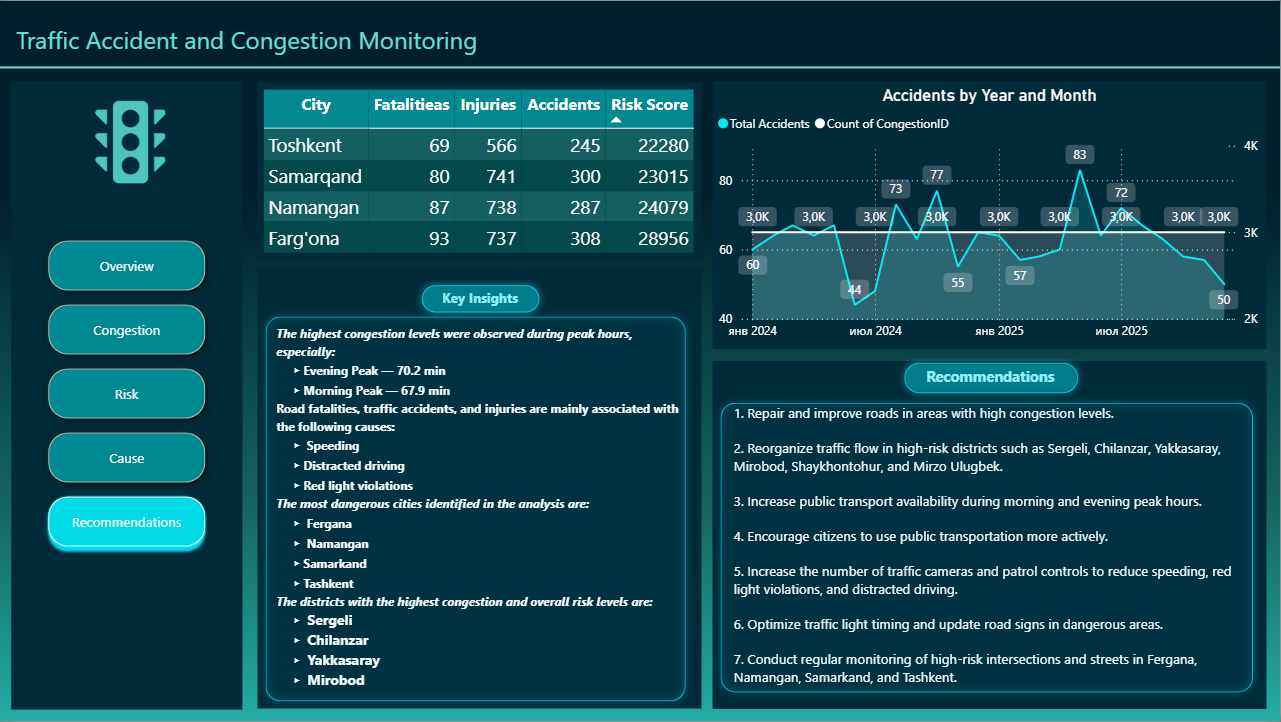

The page's visual inventory and layout, read from the dashboard file:
{"tool":"powerbi","page":{"name":"Recommendations ","canvas":[1280,720],"ordinal":4},"visuals":[{"type":"shape","box":[11.4,80,231.4,628.6],"z":0},{"type":"shape","box":[0,60,1280,12.9],"z":1000},{"type":"textbox","box":[11.4,17.1,492.9,42.9],"z":2000},{"type":"image","box":[64.3,97.1,134.3,87.1],"z":3000},{"type":"shape","box":[258,81,444,178],"z":4000},{"type":"shape","box":[258,268,444,440],"z":5000},{"type":"shape","box":[713,360,554,348],"z":6000},{"type":"shape","box":[713,80,554,268],"z":7000},{"type":"lineChart","title":"Accidents by Year and Month","fields":{"Y":["All measures.Total Accidents"],"Category":["Accidents.DateTime.Variation.Date Hierarchy.Year","Accidents.DateTime.Variation.Date Hierarchy.Month"],"Y2":["Count(Congestion.CongestionID)"]},"box":[713,84,554,264],"z":8000},{"type":"pageNavigator","box":[41,233,171,323],"z":9000},{"type":"tableEx","fields":{"Values":["Regions.City","All measures.Fatalitieas","All measures.Injuries","All measures.Total Accidents","All measures.Combined Risk Score"]},"box":[258,84,444,184],"z":10000},{"type":"textbox","box":[271,282,418,415],"z":11000},{"type":"textbox","box":[738.2,360,513.6,337.3],"z":12000},{"type":"shape","box":[413.1,275.6,133.8,43.1],"z":13000},{"type":"shape","box":[895.7,353.6,190,46.4],"z":14000},{"type":"shape","box":[257.5,307.5,443.8,400],"z":15000},{"type":"shape","box":[713.1,383.8,548.5,316.2],"z":16000}]}

Visuals, with their boxes in screenshot pixels (x1, y1, x2, y2), scaled from the page's 1280x720 canvas onto the 1281x722 screenshot:
shape: locate(11, 80, 243, 711)
shape: locate(0, 60, 1280, 73)
textbox: locate(11, 17, 505, 60)
image: locate(64, 97, 199, 185)
shape: locate(258, 81, 703, 260)
shape: locate(258, 269, 703, 710)
shape: locate(714, 361, 1268, 710)
shape: locate(714, 80, 1268, 349)
"Accidents by Year and Month" lineChart: locate(714, 84, 1268, 349)
pageNavigator: locate(41, 234, 212, 558)
tableEx - Regions.City x All measures.Fatalitieas: locate(258, 84, 703, 269)
textbox: locate(271, 283, 690, 699)
textbox: locate(739, 361, 1253, 699)
shape: locate(413, 276, 547, 320)
shape: locate(896, 355, 1087, 401)
shape: locate(258, 308, 702, 709)
shape: locate(714, 385, 1263, 702)
